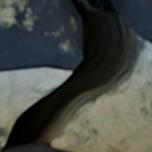brick: (4, 144, 67, 151)
broken_brick: (0, 0, 80, 72), (138, 0, 151, 44)
crack: (0, 0, 150, 151)
